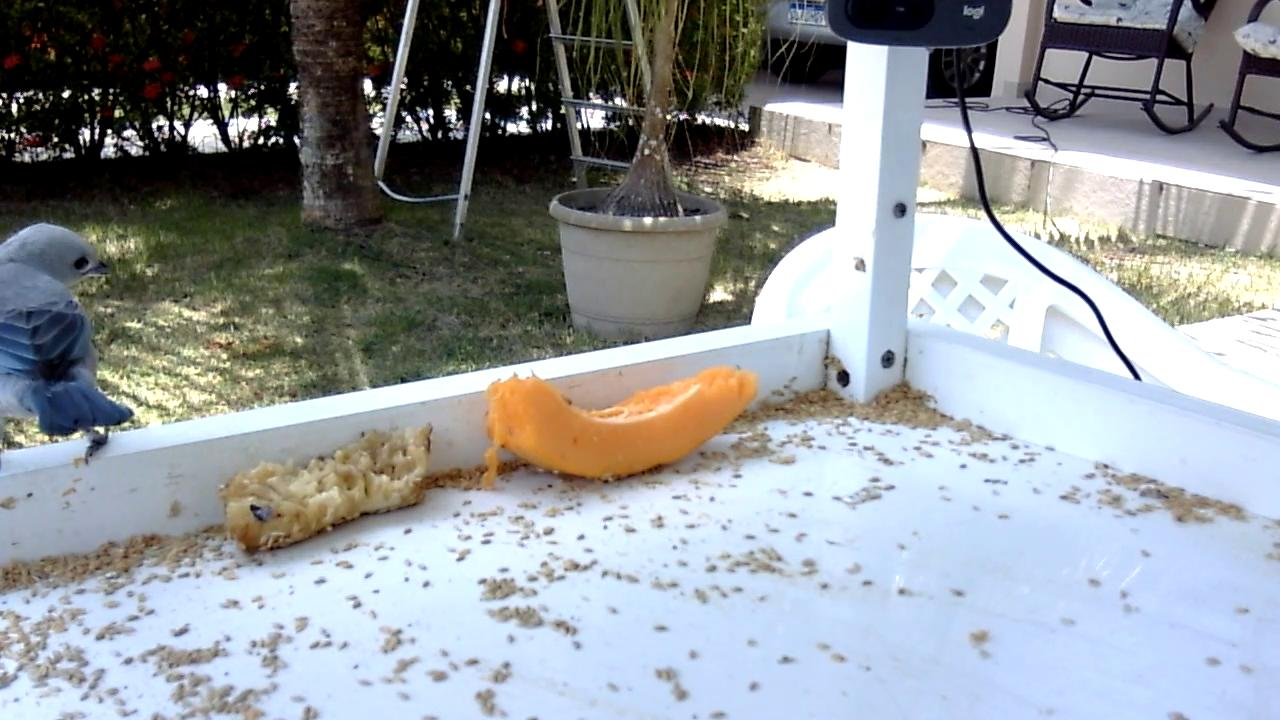sanhaco_da_amazonia: (1, 221, 138, 467)
